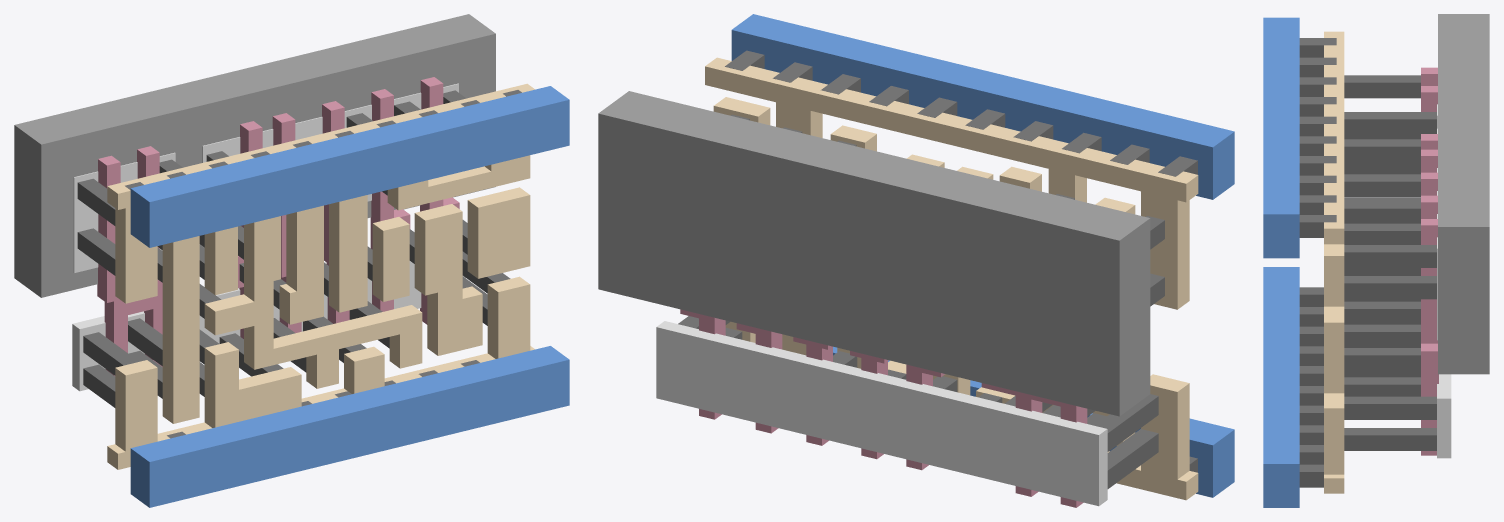
The model's file is sky130_fd_sc_hd__a2111o_2.gds.gltf.
The picture shows the model from 3 angles, left to right: view 1: azimuth 30°, elevation 25°; view 2: azimuth 150°, elevation 25°; view 3: azimuth 270°, elevation 25°; orthographic projection. The views are drawn at different scales.
Parts seen in each view (by area): view 1: sky130_fd_sc_hd__a2111o_2_li1, sky130_fd_sc_hd__a2111o_2_met1, sky130_fd_sc_hd__a2111o_2_nwell, sky130_fd_sc_hd__a2111o_2_licon, sky130_fd_sc_hd__a2111o_2_poly, sky130_fd_sc_hd__a2111o_2_diff, sky130_fd_sc_hd__a2111o_2_mcon; view 2: sky130_fd_sc_hd__a2111o_2_nwell, sky130_fd_sc_hd__a2111o_2_diff, sky130_fd_sc_hd__a2111o_2_li1, sky130_fd_sc_hd__a2111o_2_met1, sky130_fd_sc_hd__a2111o_2_licon, sky130_fd_sc_hd__a2111o_2_mcon, sky130_fd_sc_hd__a2111o_2_poly; view 3: sky130_fd_sc_hd__a2111o_2_licon, sky130_fd_sc_hd__a2111o_2_nwell, sky130_fd_sc_hd__a2111o_2_met1, sky130_fd_sc_hd__a2111o_2_mcon, sky130_fd_sc_hd__a2111o_2_li1, sky130_fd_sc_hd__a2111o_2_poly, sky130_fd_sc_hd__a2111o_2_diff.
Part boxes in pixels (<box>): sky130_fd_sc_hd__a2111o_2_li1: <box>107,83,534,469</box>; sky130_fd_sc_hd__a2111o_2_met1: <box>130,86,569,507</box>; sky130_fd_sc_hd__a2111o_2_nwell: <box>14,14,495,297</box>; sky130_fd_sc_hd__a2111o_2_licon: <box>77,90,510,407</box>; sky130_fd_sc_hd__a2111o_2_poly: <box>97,77,459,375</box>; sky130_fd_sc_hd__a2111o_2_diff: <box>72,83,465,391</box>; sky130_fd_sc_hd__a2111o_2_mcon: <box>125,90,521,438</box>; sky130_fd_sc_hd__a2111o_2_nwell: <box>598,91,1150,416</box>; sky130_fd_sc_hd__a2111o_2_diff: <box>656,321,1107,506</box>; sky130_fd_sc_hd__a2111o_2_li1: <box>705,57,1198,500</box>; sky130_fd_sc_hd__a2111o_2_met1: <box>731,14,1234,497</box>; sky130_fd_sc_hd__a2111o_2_licon: <box>678,114,1164,488</box>; sky130_fd_sc_hd__a2111o_2_mcon: <box>725,50,1197,472</box>; sky130_fd_sc_hd__a2111o_2_poly: <box>680,309,1087,507</box>; sky130_fd_sc_hd__a2111o_2_licon: <box>1344,75,1436,450</box>; sky130_fd_sc_hd__a2111o_2_nwell: <box>1438,14,1489,374</box>; sky130_fd_sc_hd__a2111o_2_met1: <box>1263,17,1299,507</box>; sky130_fd_sc_hd__a2111o_2_mcon: <box>1299,38,1336,487</box>; sky130_fd_sc_hd__a2111o_2_li1: <box>1324,31,1344,493</box>; sky130_fd_sc_hd__a2111o_2_poly: <box>1421,67,1438,455</box>; sky130_fd_sc_hd__a2111o_2_diff: <box>1437,104,1451,458</box>.
Size of the model in its own units: 4.98 by 3.2 by 2.24.
